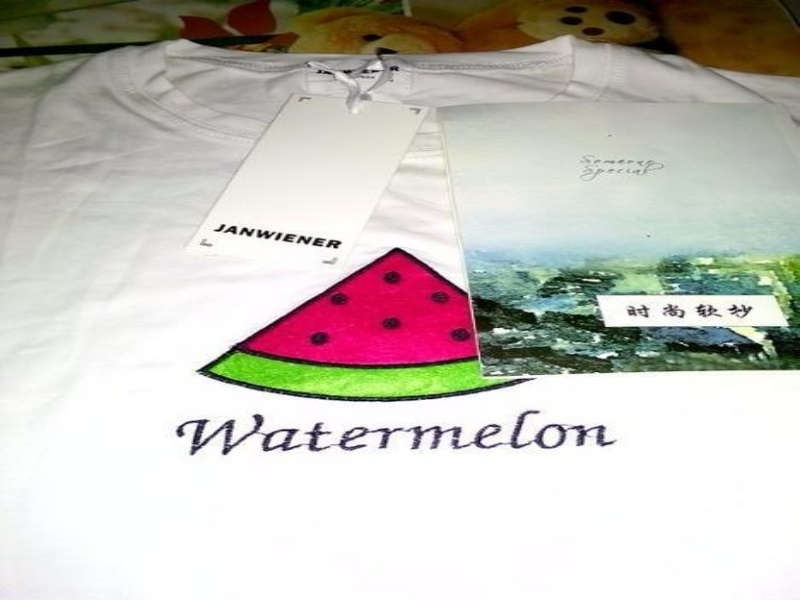short_sleeved_shirt: (0, 35, 798, 599)
